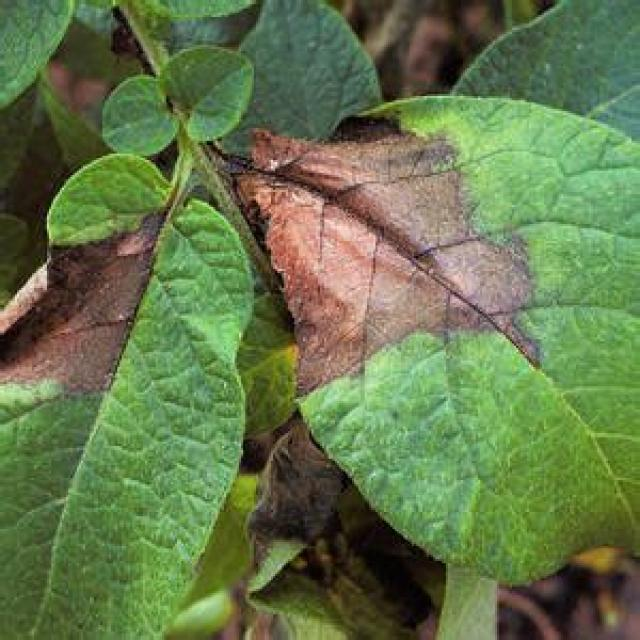blight: (238, 121, 538, 393)
